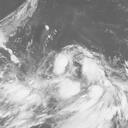cyclone: (46, 44, 107, 102)
